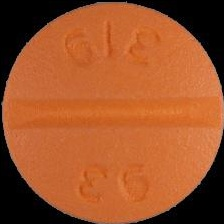63629-3649: (0, 0, 224, 224)
